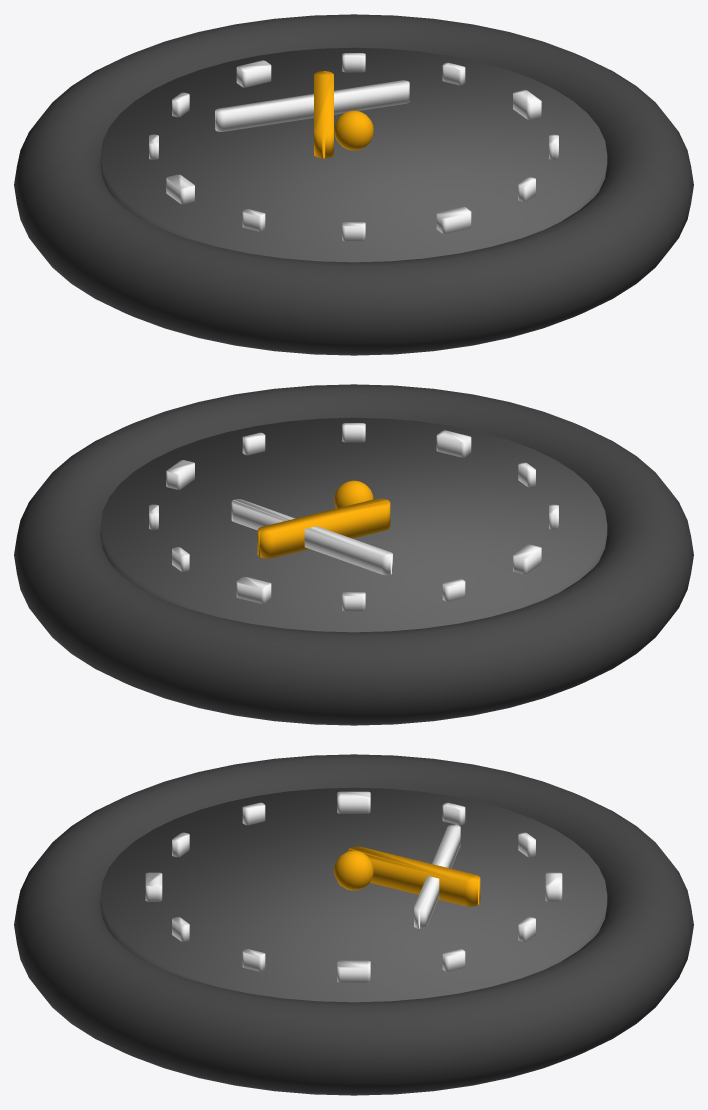
File: clock.glb
3 renders of one model, top to bottom at view 1: azimuth 30°, elevation 25°; view 2: azimuth 150°, elevation 25°; view 3: azimuth 270°, elevation 25°, orthographic.
Visible parts, largest first — view 1: ClockRing, ClockFace, ClockMinHand, ClockHourHand, ClockCenter, ClockTick_3, ClockTick_9, ClockTick_6, ClockTick_0; view 2: ClockRing, ClockFace, ClockHourHand, ClockMinHand, ClockTick_9, ClockTick_3, ClockCenter, ClockTick_6, ClockTick_0; view 3: ClockRing, ClockFace, ClockHourHand, ClockMinHand, ClockCenter, ClockTick_0, ClockTick_6, ClockTick_3, ClockTick_9.
Boxes of the visible parts, x1,y1,x2,y2 form: ClockRing: (14, 14, 693, 355); ClockFace: (100, 47, 607, 262); ClockMinHand: (215, 80, 409, 131); ClockHourHand: (314, 71, 333, 158); ClockCenter: (334, 110, 373, 150); ClockTick_3: (236, 60, 271, 87); ClockTick_9: (436, 207, 471, 233); ClockTick_6: (166, 174, 194, 204); ClockTick_0: (513, 90, 541, 119); ClockRing: (14, 384, 693, 725); ClockFace: (100, 417, 607, 632); ClockHourHand: (257, 498, 390, 558); ClockMinHand: (231, 499, 392, 575); ClockTick_9: (436, 430, 471, 457); ClockTick_3: (236, 577, 271, 603); ClockCenter: (334, 480, 373, 508); ClockTick_6: (513, 544, 541, 574); ClockTick_0: (166, 460, 194, 489); ClockRing: (14, 754, 693, 1095); ClockFace: (100, 787, 607, 1002); ClockHourHand: (347, 846, 480, 906); ClockMinHand: (414, 824, 460, 928); ClockCenter: (334, 850, 373, 890); ClockTick_0: (337, 960, 370, 982); ClockTick_6: (337, 791, 370, 813); ClockTick_3: (545, 872, 562, 901); ClockTick_9: (145, 872, 162, 901).
Bounding box in the file's own units: 2.04 × 0.38 × 2.04.
